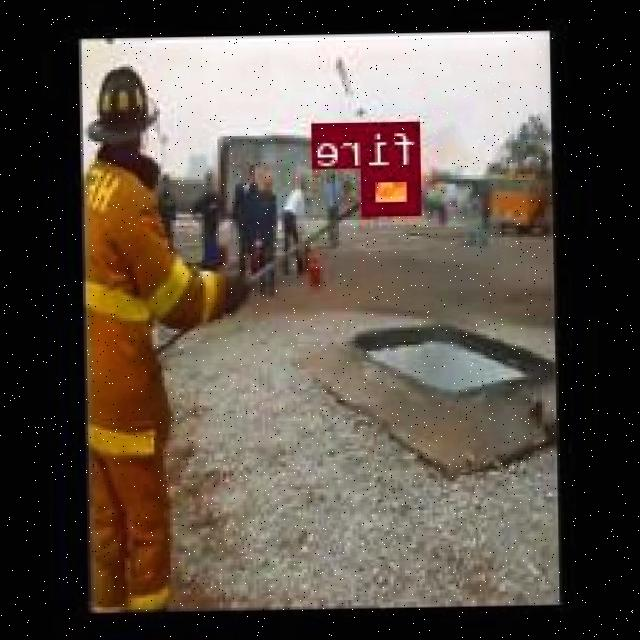fire: (364, 166, 422, 212)
